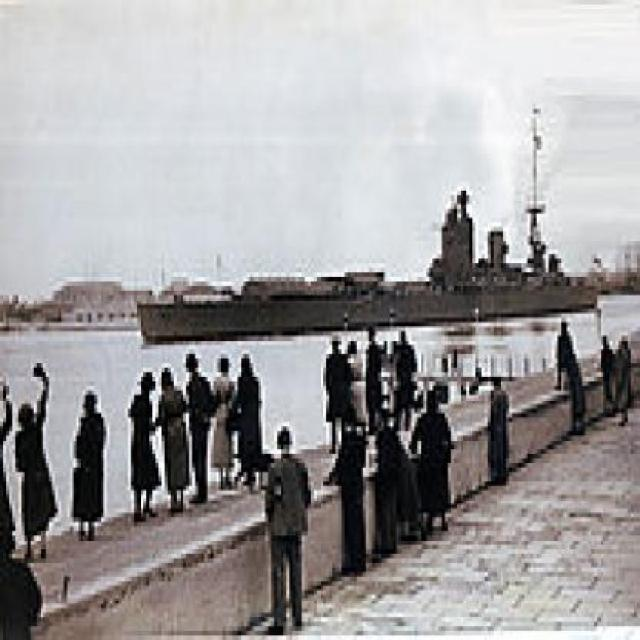warship2: (132, 105, 607, 351)
